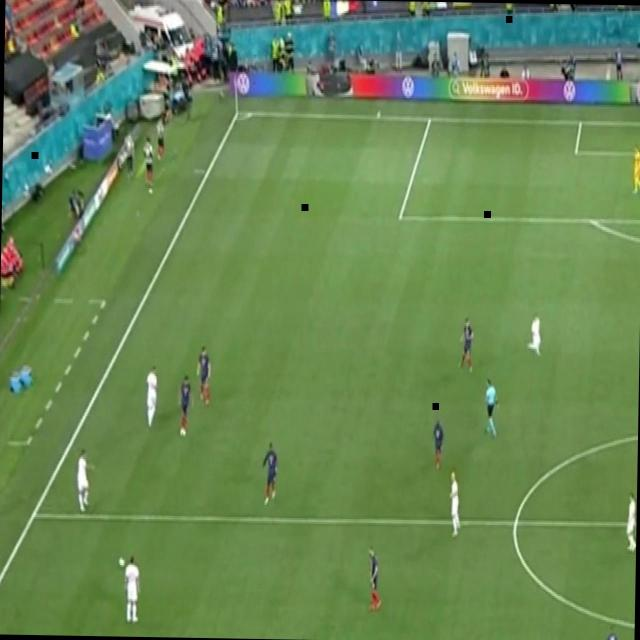ball: (118, 553, 126, 569), (148, 187, 154, 196)
player-white: (72, 444, 93, 518), (122, 555, 142, 624), (366, 536, 382, 614), (261, 440, 279, 507), (446, 471, 463, 541), (177, 372, 195, 438), (195, 342, 213, 408), (482, 377, 499, 441), (144, 366, 160, 432), (458, 316, 474, 373), (526, 312, 544, 358), (432, 411, 445, 473), (624, 490, 637, 552), (629, 143, 640, 195), (604, 620, 618, 640)
